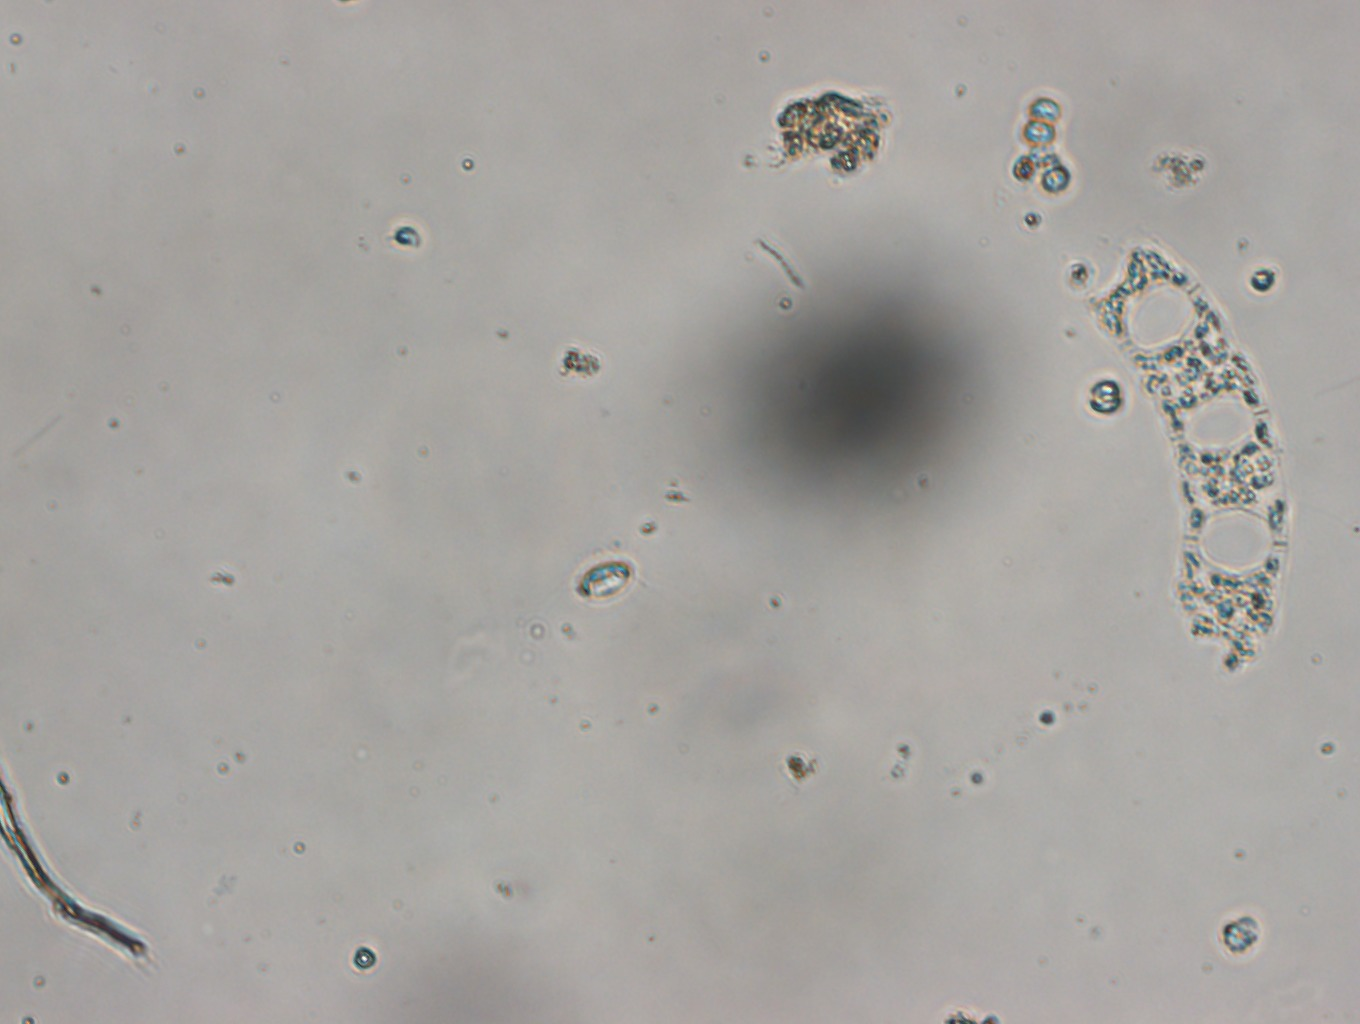eucampia: (1082, 241, 1305, 689)
